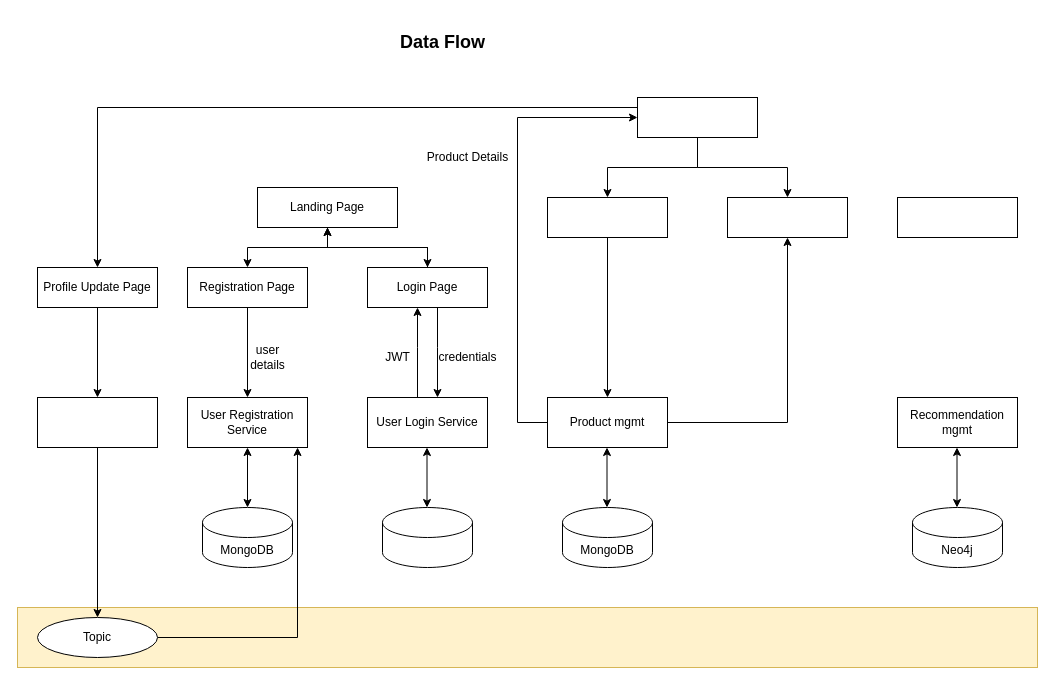
This 1055x685 diagram has some shape labels left out. Here are the shapes that lost their labels. From the top down, the box of each, then its label:
(636, 96, 758, 138): Product List/Home page
(546, 196, 668, 238): Product Upload Page
(726, 196, 848, 238): Product
(896, 196, 1018, 238): Recommendation
(36, 396, 158, 448): Profile mgmt service
(382, 506, 472, 568): MySQL
